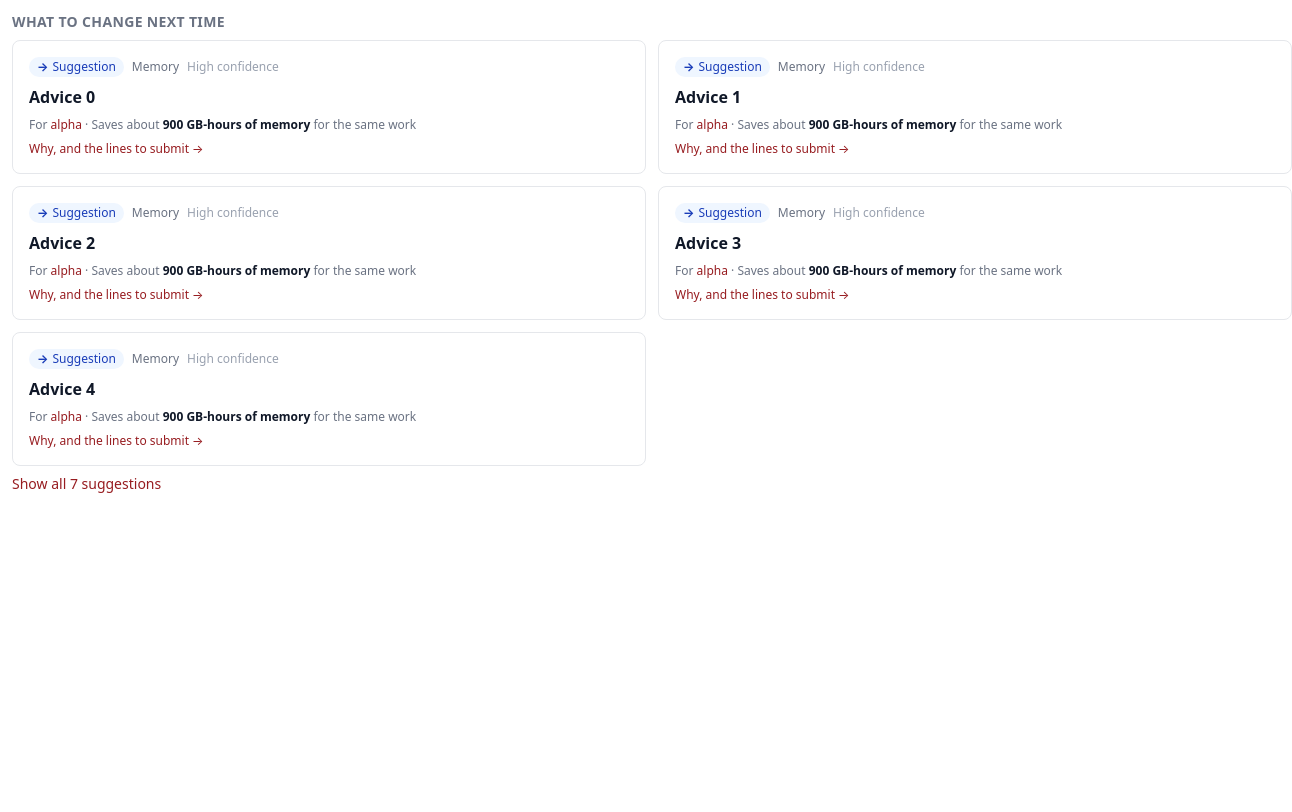
Test: Suggestions › shows five and offers the rest
Expected: the number of elements with test id "advice" is 5, [12,40,646,174]; [658,40,1291,174]; [12,186,646,320]; [658,186,1291,320]; [12,332,646,466]
Step 1. Click the button "Show all 7 suggestions" → coordinates (87, 484), box [12,474,161,494]
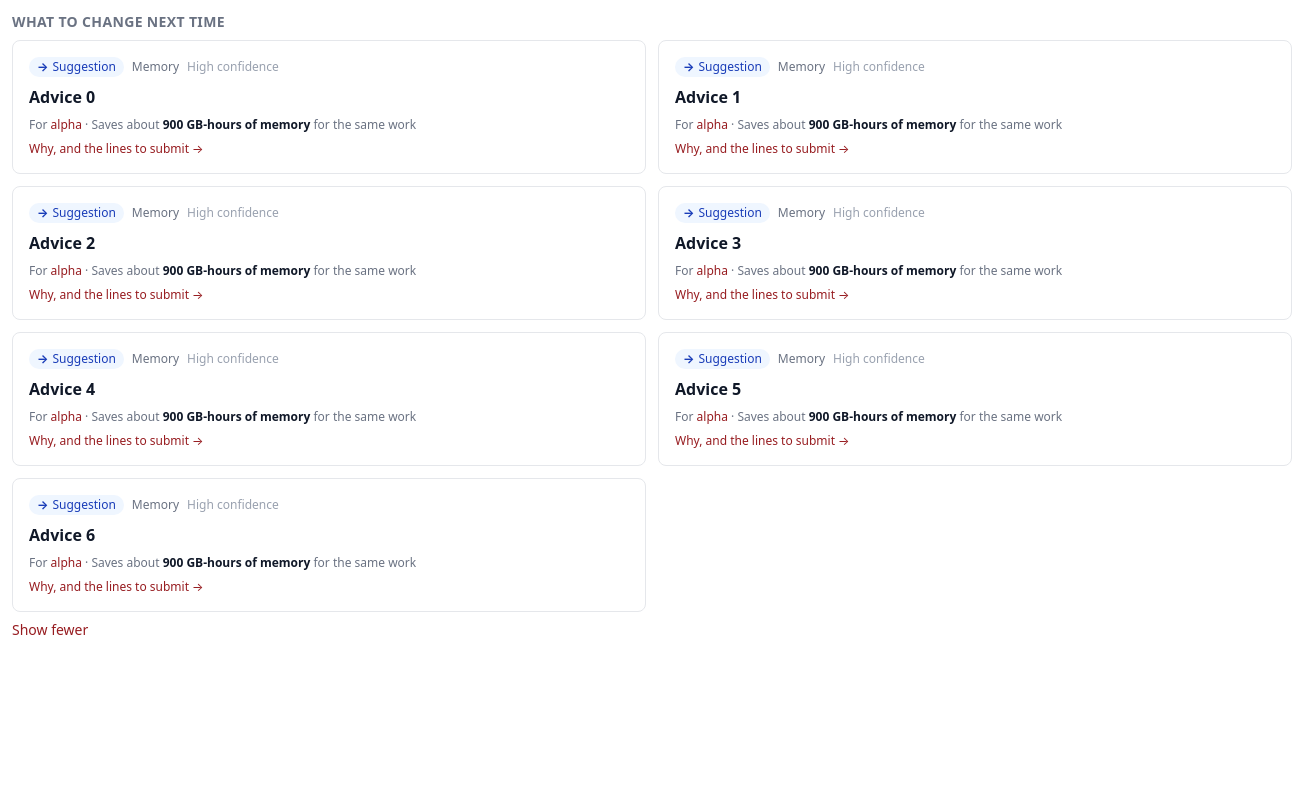
Expected: the number of elements with test id "advice" is 7
